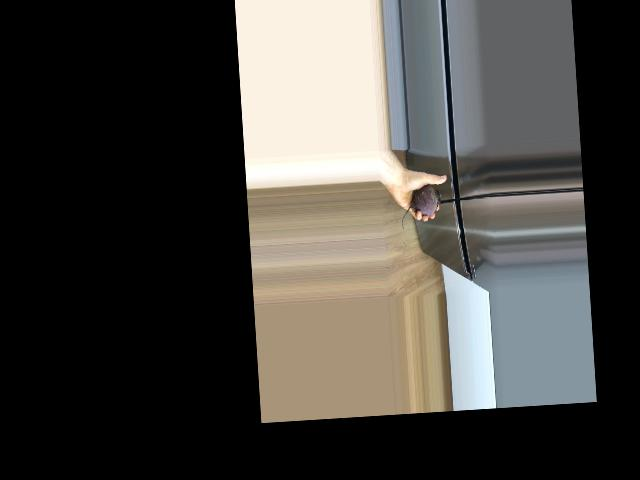beet: (399, 184, 442, 230)
